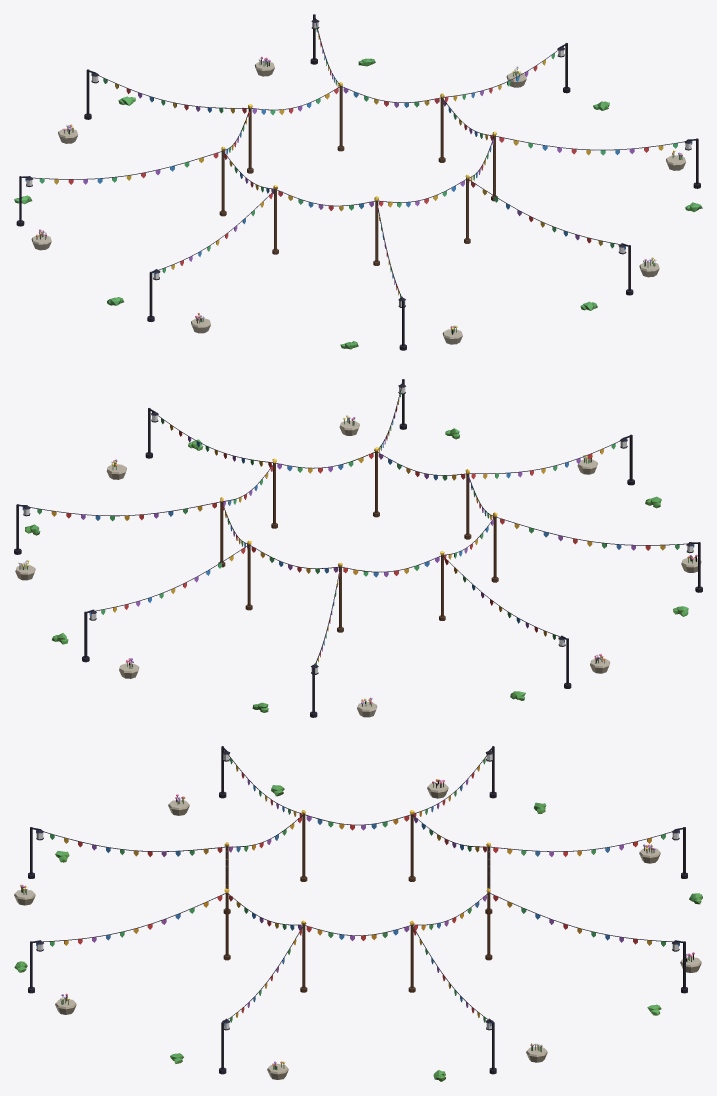
The model's file is hub_lights.fbx.
The picture shows the model from 3 angles, top to bottom: view 1: azimuth 30°, elevation 25°; view 2: azimuth 150°, elevation 25°; view 3: azimuth 270°, elevation 25°; orthographic projection. The views are drawn at different scales.
Parts seen in each view (by area): view 1: hub_lights_body; view 2: hub_lights_body; view 3: hub_lights_body.
Boxes of the visible parts, bbox=[...] form: hub_lights_body: bbox=[14, 14, 702, 350]; hub_lights_body: bbox=[14, 379, 702, 717]; hub_lights_body: bbox=[14, 746, 702, 1081].
Size of the model in its own units: 8911 by 1025 by 8851.
2 materials, 1 textured.
